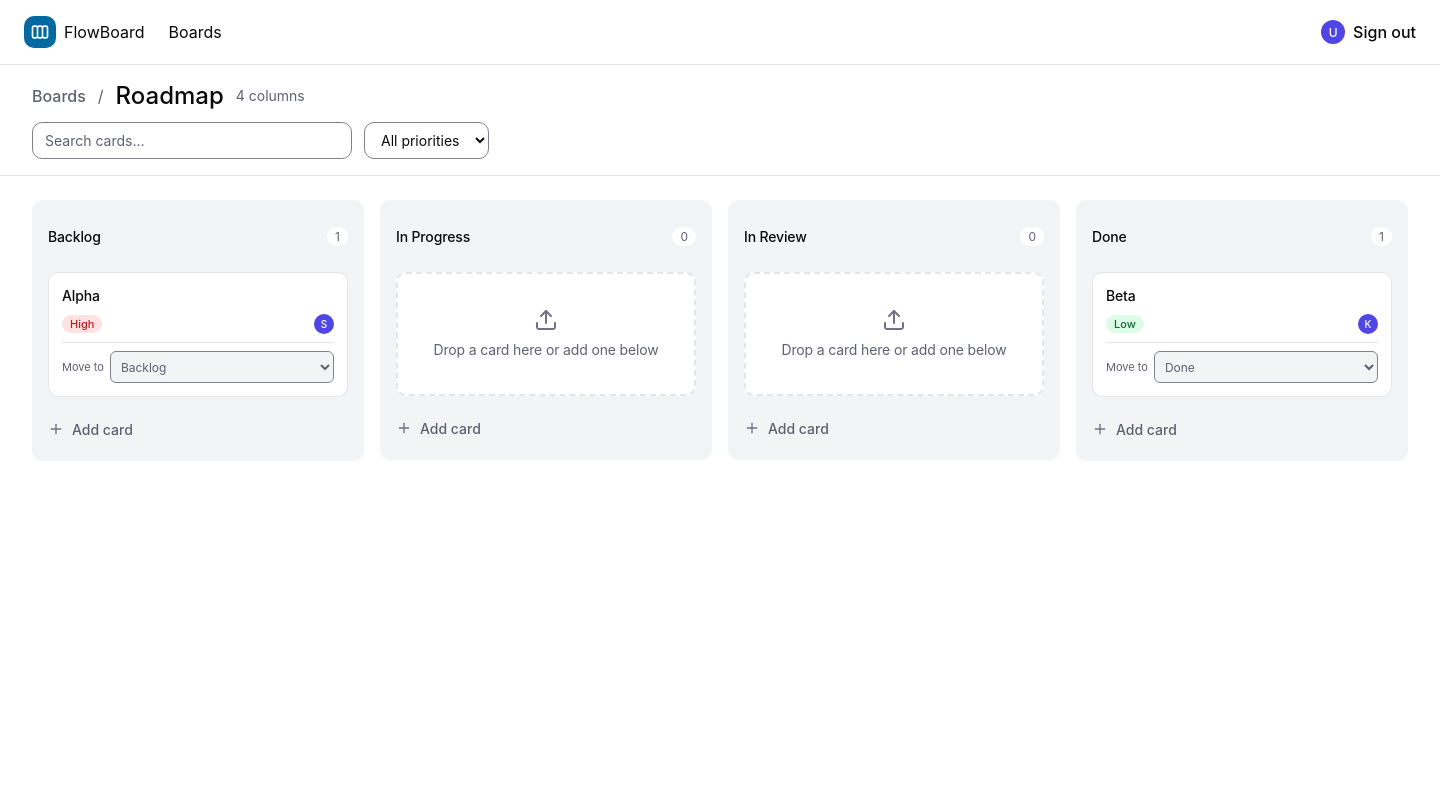
Test case: BoardPage – creating cards › creates a card in the chosen column with the signed-in user
Check: the text "Alpha" is shown, box [62,287,100,304]
Click the button "Add card" below "In Progress": [450, 428] box [396,412,696,444]
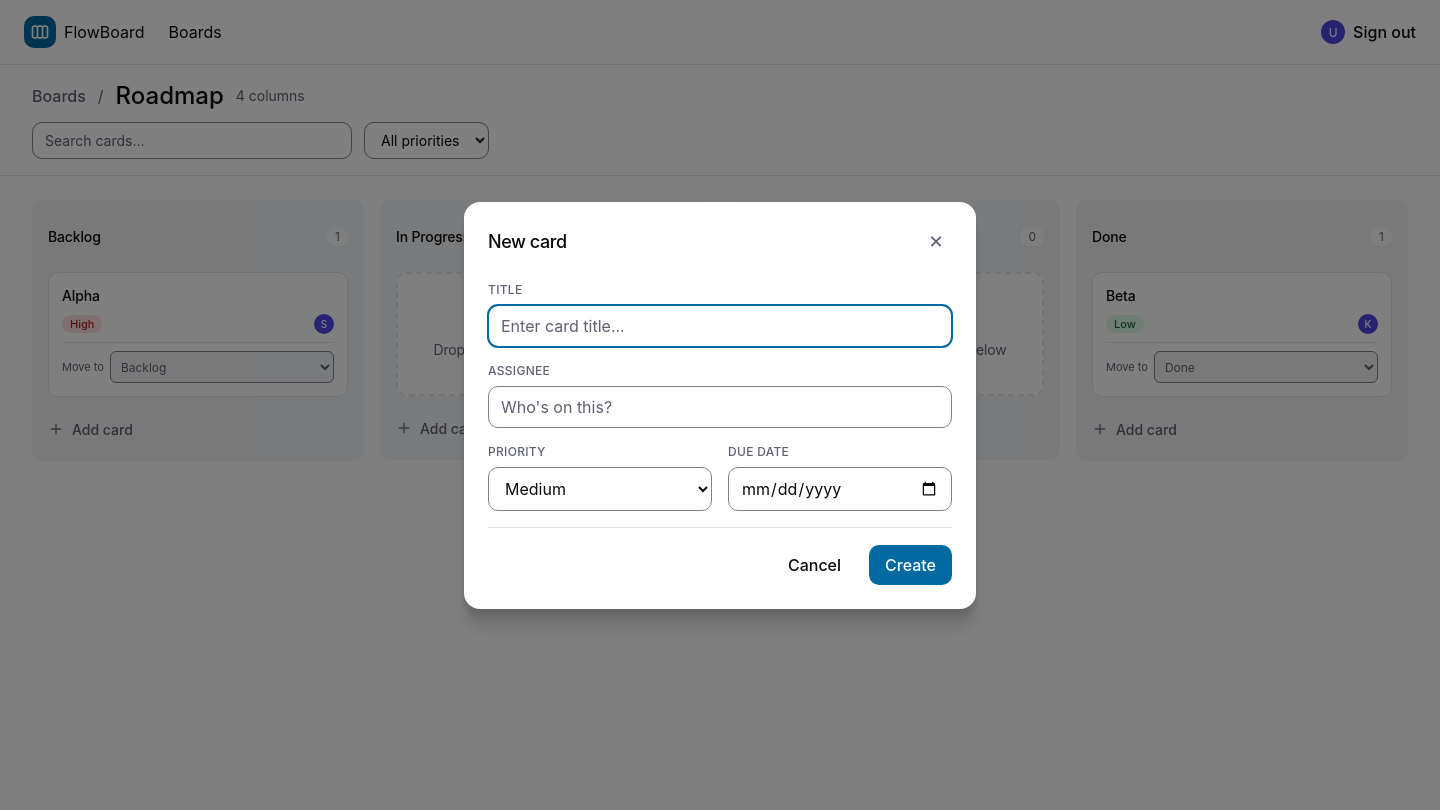
In the field labelled "Title": [720, 326] box [488,304,952,346], type "Gamma"
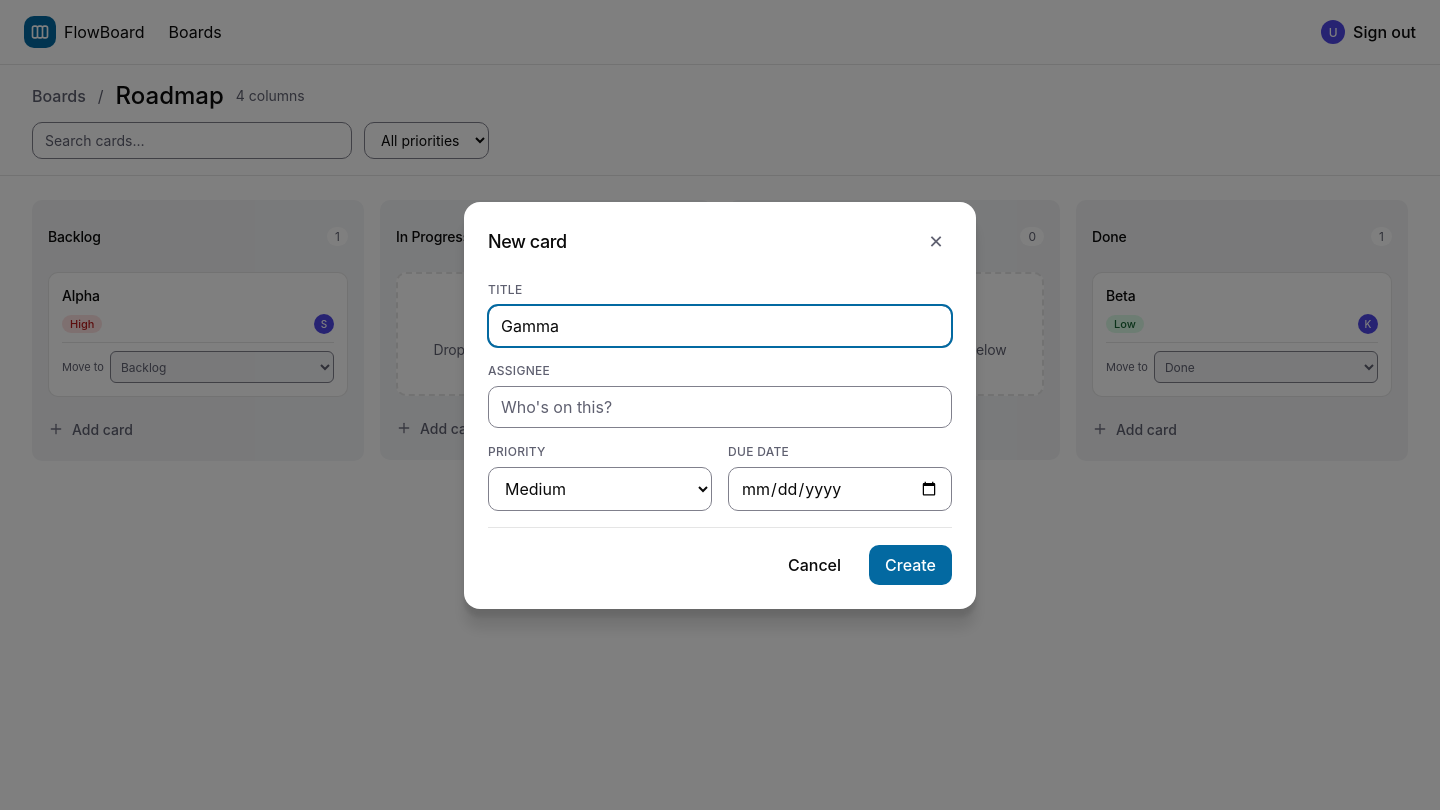
Click the button "Create": [910, 564] box [869,544,952,584]
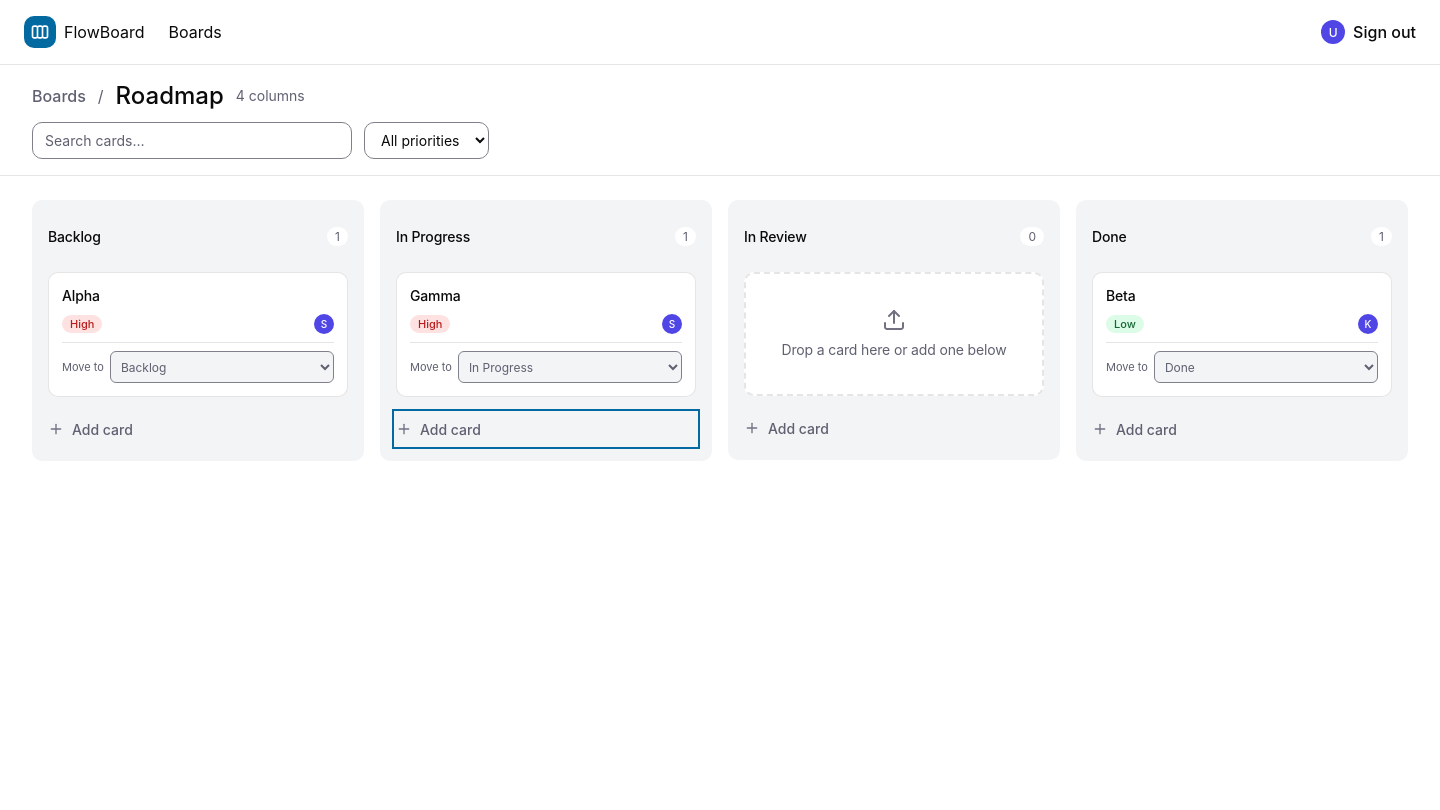
Check: the text "Gamma" is shown, box [410,287,460,304]
Check: the dialog is gone
